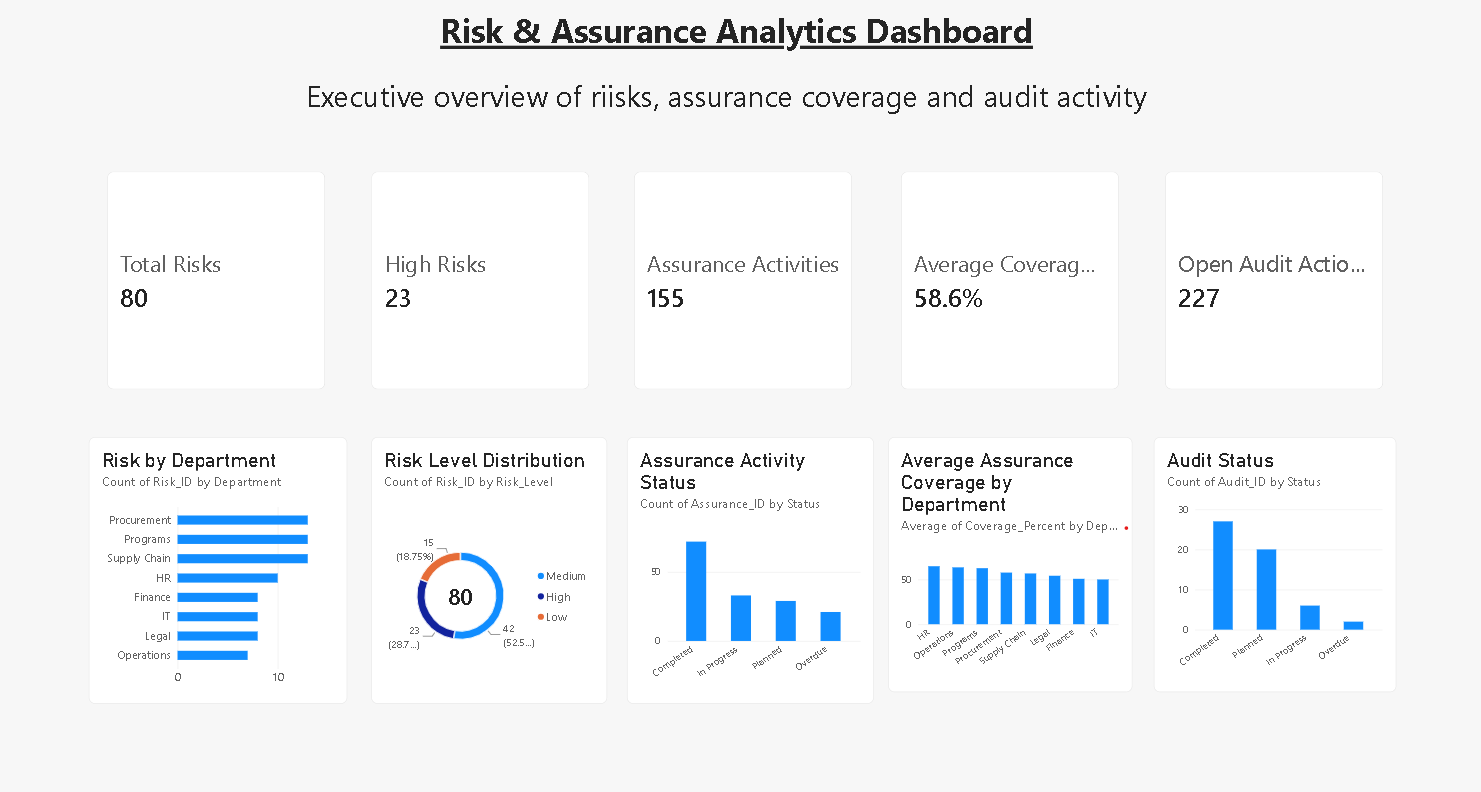

The page's visual inventory and layout, read from the dashboard file:
{"tool":"powerbi","page":{"name":"Executive Assurance Overview","canvas":[1920,1080],"ordinal":0},"visuals":[{"type":"cardVisual","fields":{"Data":["Assurance.Total Risks"]},"box":[141,248.4,280,280],"z":0},{"type":"cardVisual","fields":{"Data":["Assurance.High Risks"]},"box":[481,248.4,280,280],"z":1000},{"type":"cardVisual","fields":{"Data":["Assurance.Assurance Activities"]},"box":[818.5,248.4,280,280],"z":2000},{"type":"cardVisual","fields":{"Data":["Assurance.Average Coverage %"]},"box":[1161,248.4,280,280],"z":3000},{"type":"cardVisual","fields":{"Data":["Assurance.Open Audit Actions"]},"box":[1501,248.4,280,280],"z":4000},{"type":"clusteredBarChart","title":"Risk by Department","fields":{"Category":["Risks.Department"],"Y":["CountNonNull(Risks.Risk_ID)"]},"box":[118.3,589.4,332,342.4],"z":5000},{"type":"donutChart","title":"Risk Level Distribution","fields":{"Category":["Risks.Risk_Level"],"Y":["CountNonNull(Risks.Risk_ID)"]},"box":[481.5,589.4,303,342.4],"z":6000},{"type":"clusteredColumnChart","title":"Assurance Activity Status","fields":{"Category":["Assurance.Status"],"Y":["CountNonNull(Assurance.Assurance_ID)"]},"box":[809.4,589.4,317.5,342.4],"z":7000},{"type":"clusteredColumnChart","title":"Average Assurance Coverage by Department","fields":{"Category":["Risks.Department"],"Y":["Avg(Assurance.Coverage_Percent)"]},"box":[1145.6,589.4,313.4,327.9],"z":8000},{"type":"clusteredColumnChart","title":"Audit Status","fields":{"Category":["Audits.Status"],"Y":["CountNonNull(Audits.Audit_ID)"]},"box":[1485.9,589.4,311.3,327.9],"z":9000},{"type":"textbox","box":[257.5,37.5,1385,112.5],"z":10000},{"type":"textbox","box":[397.5,125,1105,77.5],"z":11000}]}

Visuals, with their boxes on the page's 1920x1080 design canvas (x1, y1, x2, y2). These are canvas units, not pixel positions in the 1481x792 screenshot, which may show the page scaled, cropped or inside an application window:
cardVisual - Assurance.Total Risks: detection(141, 248, 421, 528)
cardVisual - Assurance.High Risks: detection(481, 248, 761, 528)
cardVisual - Assurance.Assurance Activities: detection(818, 248, 1098, 528)
cardVisual - Assurance.Average Coverage %: detection(1161, 248, 1441, 528)
cardVisual - Assurance.Open Audit Actions: detection(1501, 248, 1781, 528)
"Risk by Department" clusteredBarChart: detection(118, 589, 450, 932)
"Risk Level Distribution" donutChart: detection(482, 589, 784, 932)
"Assurance Activity Status" clusteredColumnChart: detection(809, 589, 1127, 932)
"Average Assurance Coverage by Department" clusteredColumnChart: detection(1146, 589, 1459, 917)
"Audit Status" clusteredColumnChart: detection(1486, 589, 1797, 917)
textbox: detection(258, 38, 1642, 150)
textbox: detection(398, 125, 1502, 202)
